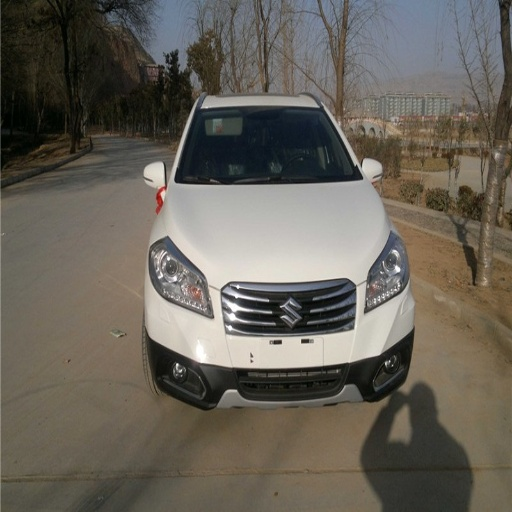front_bumper: (149, 281, 414, 408)
front_right_light: (149, 238, 213, 317)
hood: (166, 180, 386, 286)
